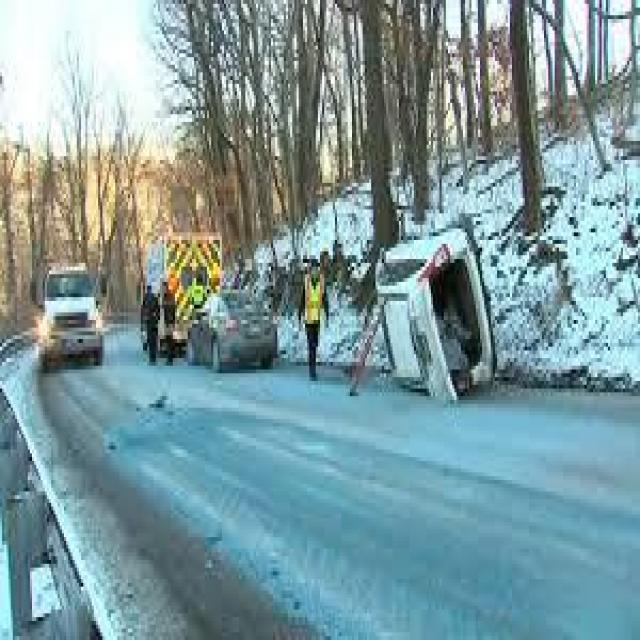severe: (367, 217, 499, 412)
